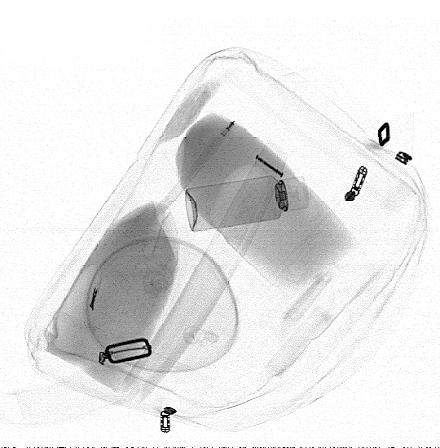Sprayer: (186, 176, 309, 231)
